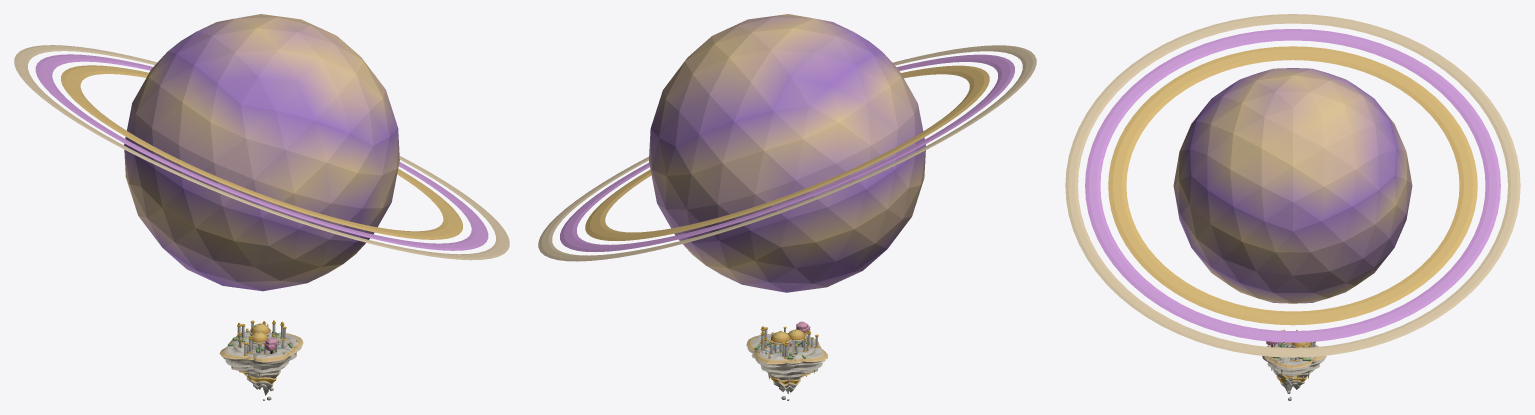
Rendered from isle-crown-vPrBLh-L.glb.
3 renders of one model, left to right at view 1: azimuth 30°, elevation 25°; view 2: azimuth 150°, elevation 25°; view 3: azimuth 270°, elevation 25°, orthographic. The views are drawn at different scales.
Visible parts, largest first — view 1: far, isle_2, isle_1, isle_0; view 2: far, isle_2, isle_1, isle_0; view 3: far, isle_2, isle_1.
Boxes of the visible parts, left/top/right/bottom form: far: left=14, top=14, right=509, bottom=291; isle_2: left=227, top=322, right=296, bottom=400; isle_1: left=219, top=321, right=303, bottom=390; isle_0: left=230, top=320, right=298, bottom=368; far: left=538, top=14, right=1036, bottom=292; isle_2: left=753, top=330, right=819, bottom=400; isle_1: left=746, top=321, right=828, bottom=378; isle_0: left=754, top=326, right=820, bottom=378; far: left=1065, top=14, right=1520, bottom=357; isle_2: left=1262, top=329, right=1326, bottom=400; isle_1: left=1266, top=330, right=1312, bottom=393.
Size of the model in its own units: 592 by 504 by 648.
